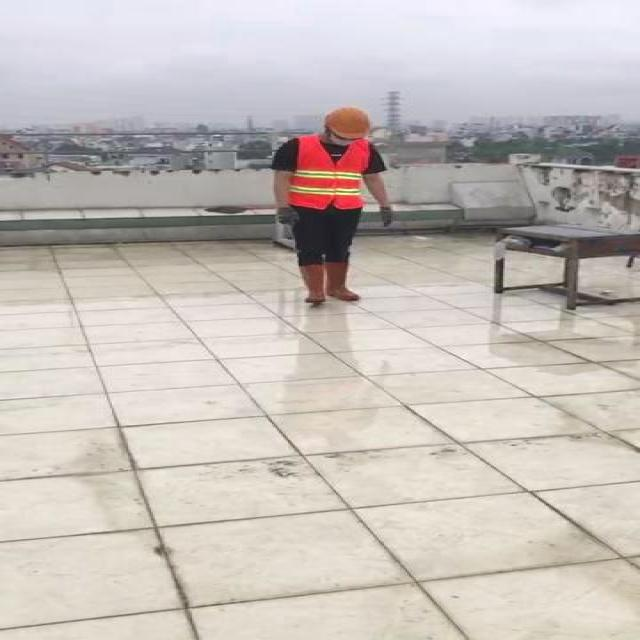boots: (327, 258, 357, 306), (297, 262, 325, 304)
face_mask: (326, 132, 358, 148)
hand_glove: (372, 207, 402, 229), (272, 206, 306, 225)
head_helmet: (320, 106, 373, 140)
person: (263, 104, 398, 316)
vest: (292, 134, 372, 208)
